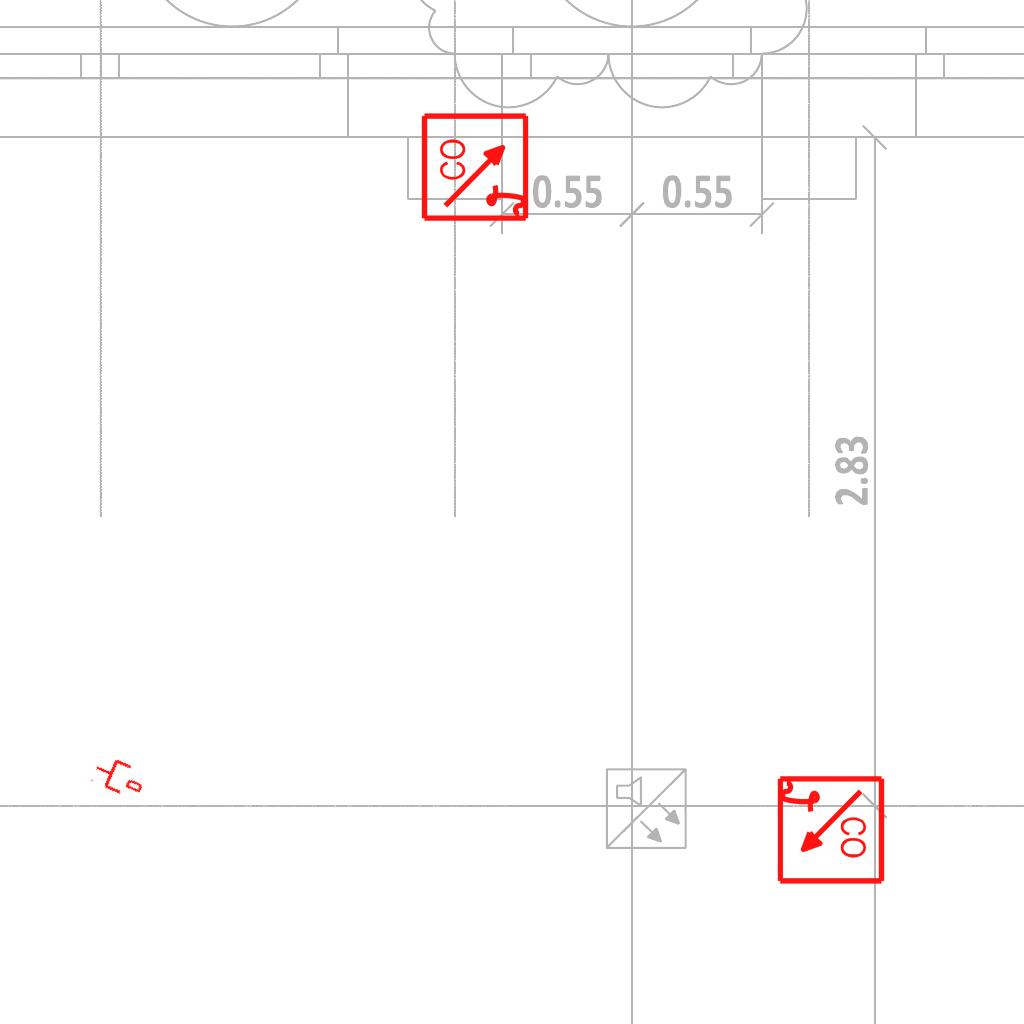Datenanschluss_einfach: (89, 751, 149, 803)
ROA_Rauchmelder_optisch_mit_Signalgeber_(Sockelsirene): (420, 110, 533, 223), (773, 774, 886, 887)
